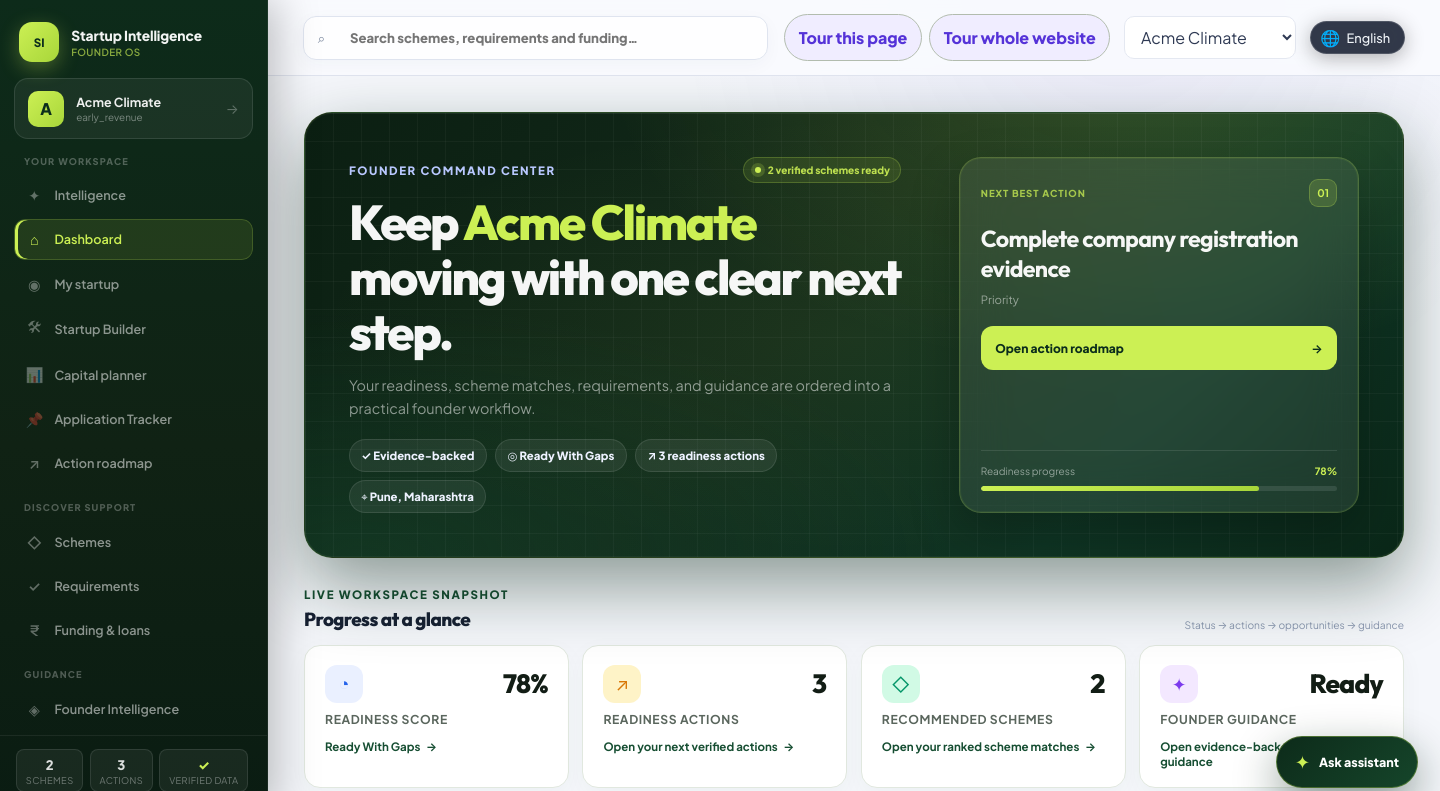
functional user dashboard › opens explicit document and certification requirements
Expected: the heading "Keep Acme Climate moving with one clear next step." is shown, [349,195,901,360]
Click the link "✓ Requirements": (84,586) [28,577,140,595]
(page scrolled)
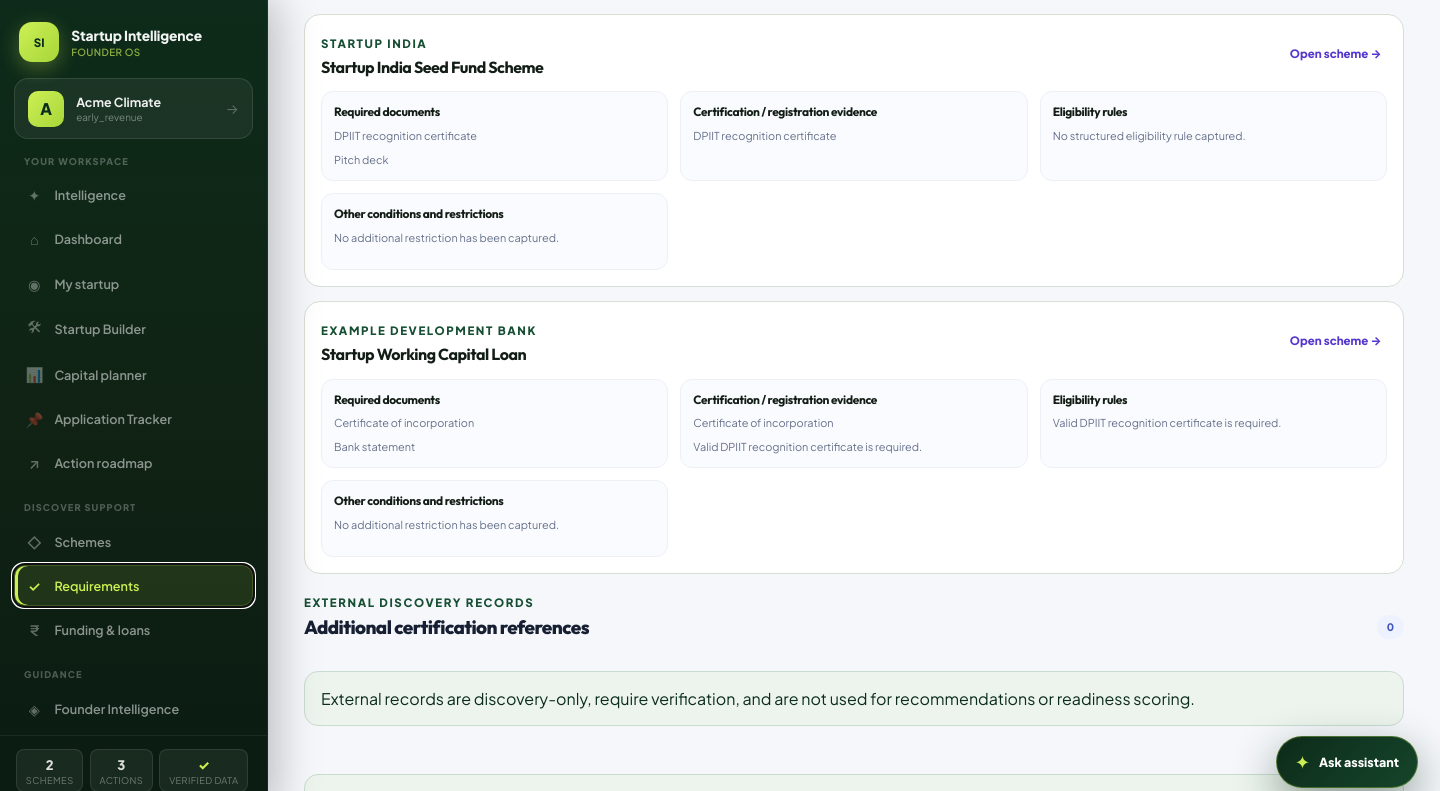
Expected: the 1st list item "Certificate of incorporation" is shown, [334,416,474,429]
Expected: the 2nd list item "Valid DPIIT recognition certificate is required." is shown, [693,440,922,453]
